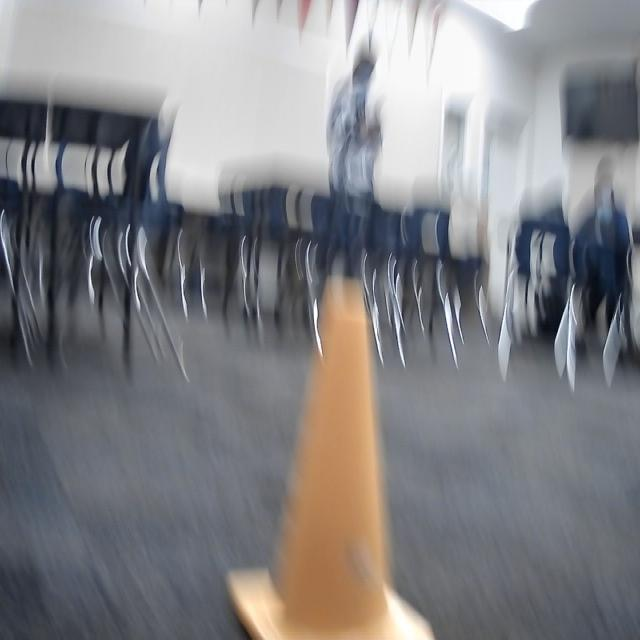cone: (224, 270, 441, 640)
